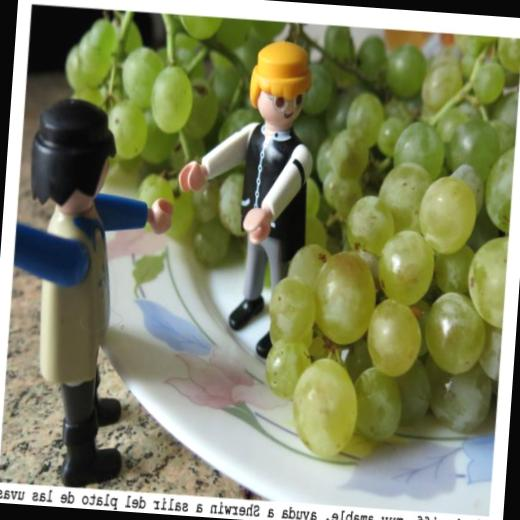Orange: (37, 0, 520, 473)
